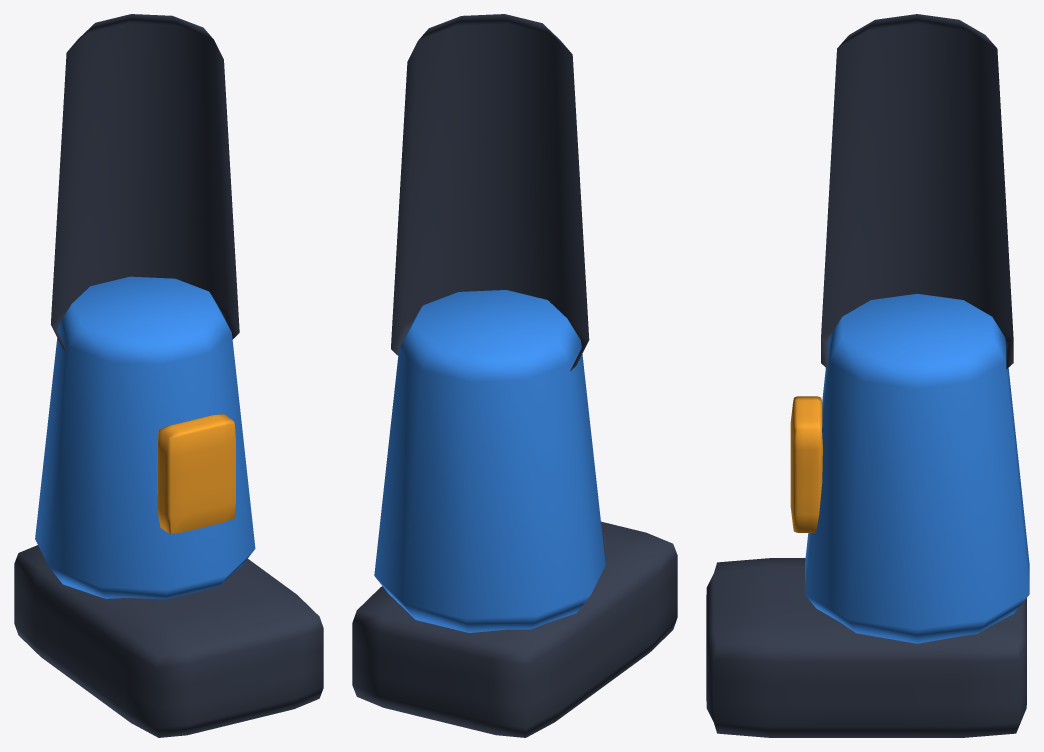
Rendered from leg_spring.obj.
3 views of the same model, side by side, from view 1: azimuth 30°, elevation 25°; view 2: azimuth 150°, elevation 25°; view 3: azimuth 270°, elevation 25° (orthographic). The views are drawn at different scales.
Bounding box in the file's own units: 0.28 × 0.86 × 0.3831.
